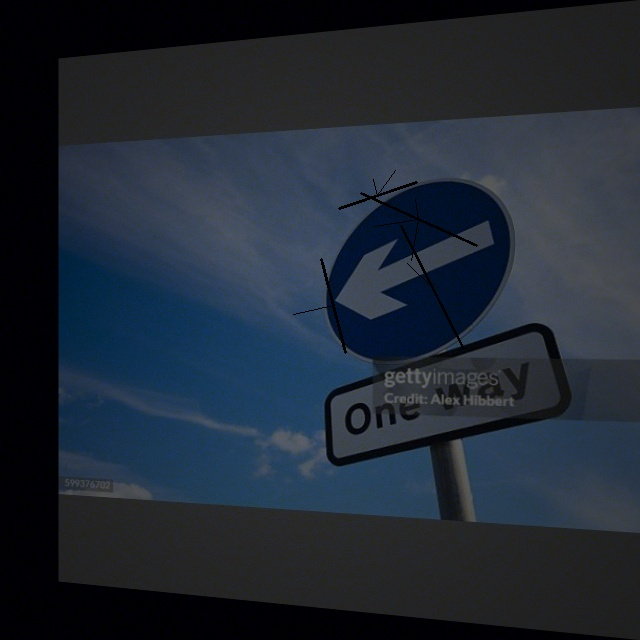Compulsory_Turn_Left: (316, 172, 513, 360)
